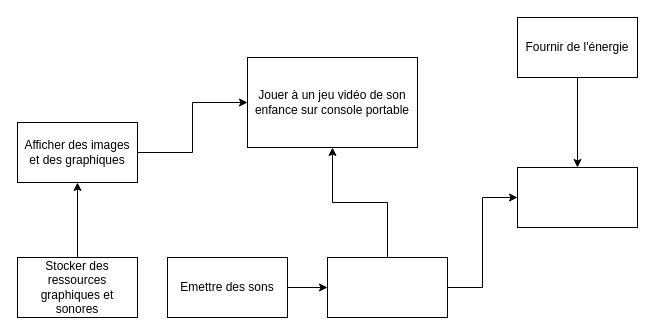
The diagram is 655 pixels wide and 335 high, and some of its shapes have lost their labels. The centre of each missing label's shape, as x and y in pixels:
Allumer la console: the point at 577,197
Intéragir avec l'utilisateur: the point at 387,287
